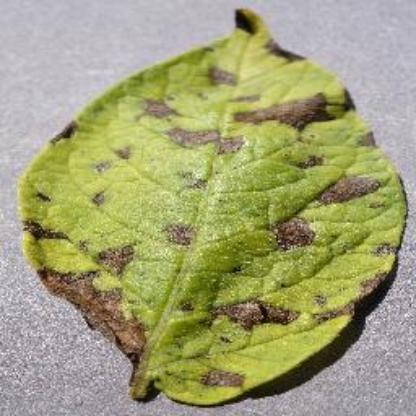Early-Blight: (21, 8, 415, 402)
